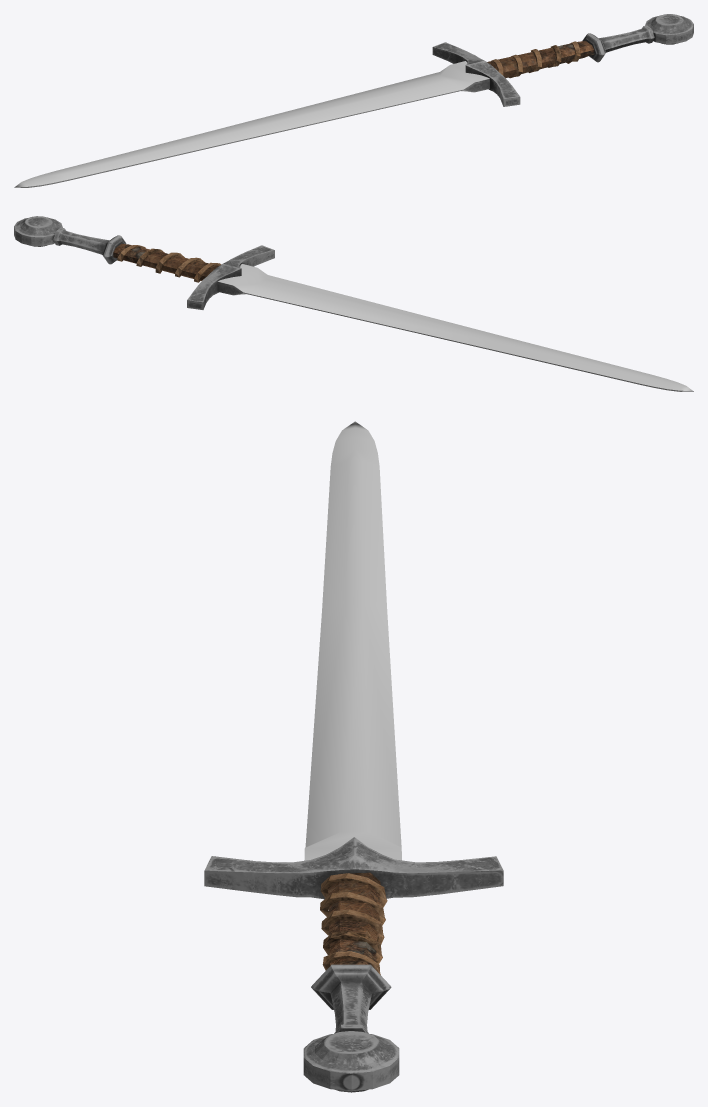
The model's file is sword.gltf.
3 renders of one model, top to bottom at view 1: azimuth 30°, elevation 25°; view 2: azimuth 150°, elevation 25°; view 3: azimuth 270°, elevation 25°, orthographic. The views are drawn at different scales.
Visible parts, largest first — view 1: Low, Object001, Object002; view 2: Low, Object001, Object002; view 3: Low, Object001.
Boxes of the visible parts, x1,y1,x2,y2 form: Low: (15, 61, 489, 187); Object001: (432, 14, 693, 106); Object002: (14, 79, 489, 187); Low: (218, 264, 692, 390); Object001: (14, 216, 274, 309); Object002: (217, 282, 693, 391); Low: (304, 421, 401, 860); Object001: (204, 837, 503, 1092).
Size of the model in its own units: 2 by 0.0705 by 0.3832.
Materials: 2 (1 with a texture image).
